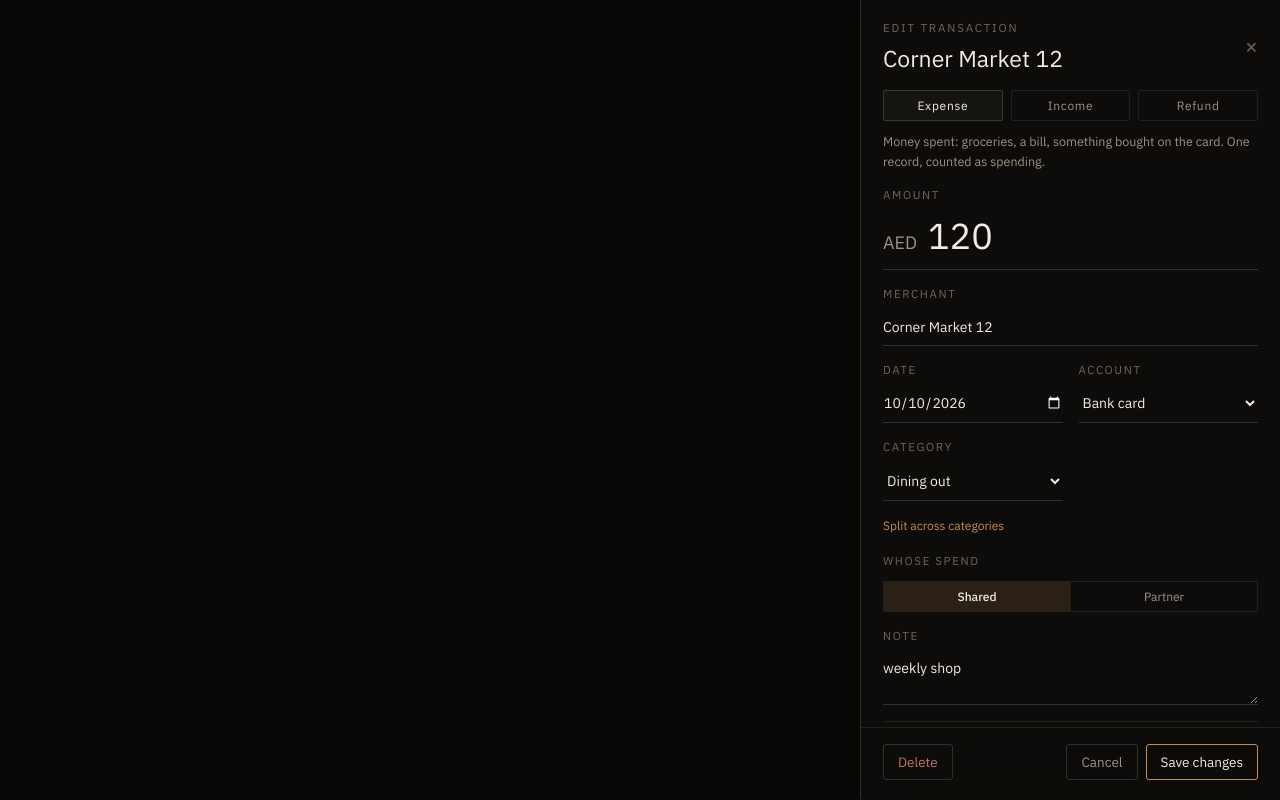
Scenario: Remember this merchant: on › follows the merchant field into the pattern until the pattern is edited
Select "Groceries" in the dropdown showing "Dining out" below "Category". click: (973, 482)
box: left=883, top=462, right=1062, bottom=501
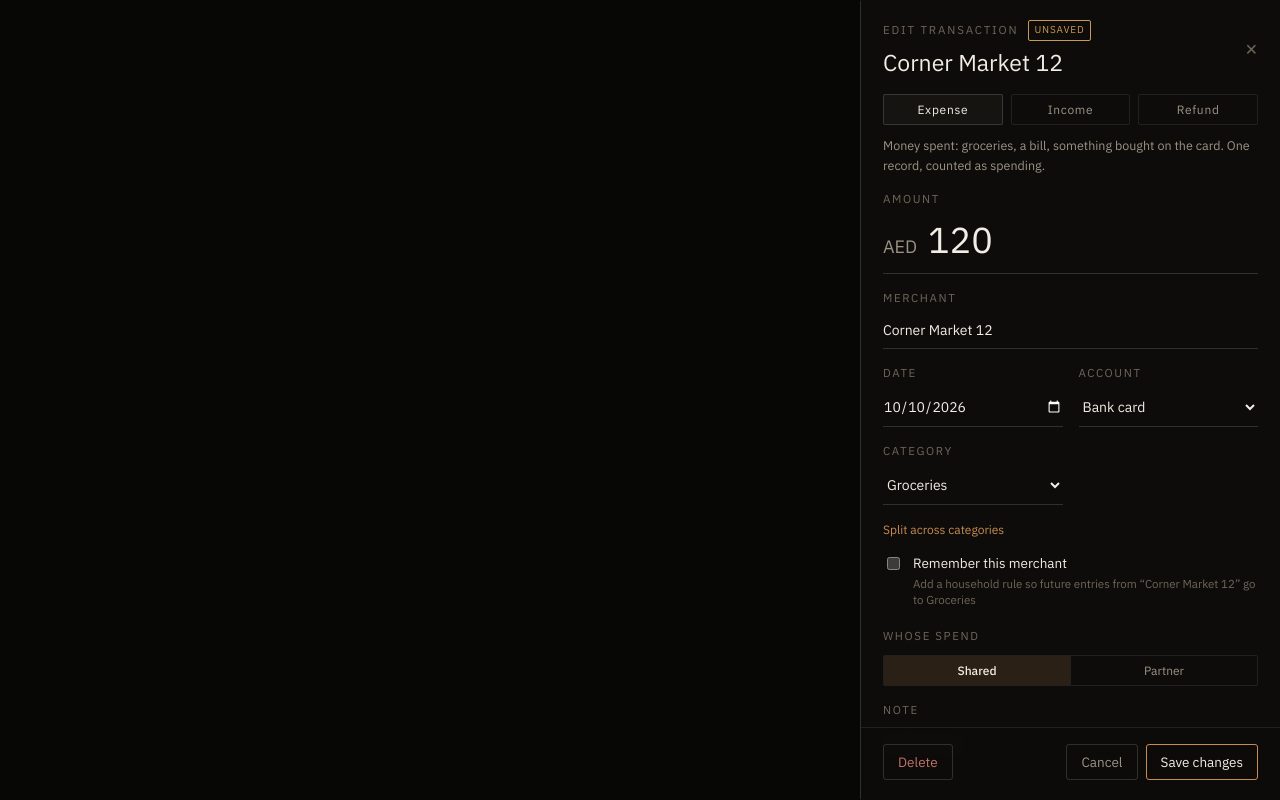
Click the checkbox labelled "Remember this merchant". click: click(894, 564)
box: left=887, top=557, right=900, bottom=570
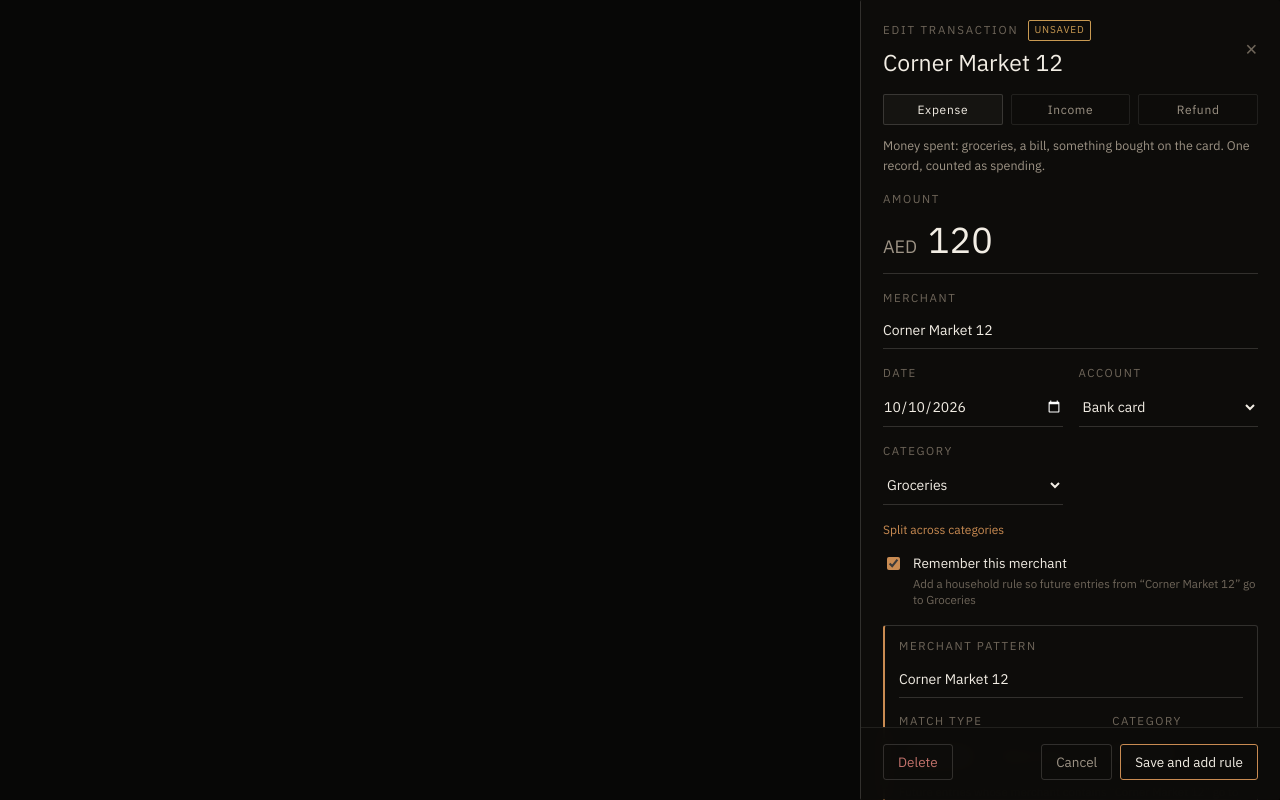
Replace the text in the field with placeholder "Type a merchant name" with "Corner Market Mall". click: (1070, 331)
box: left=883, top=312, right=1258, bottom=349
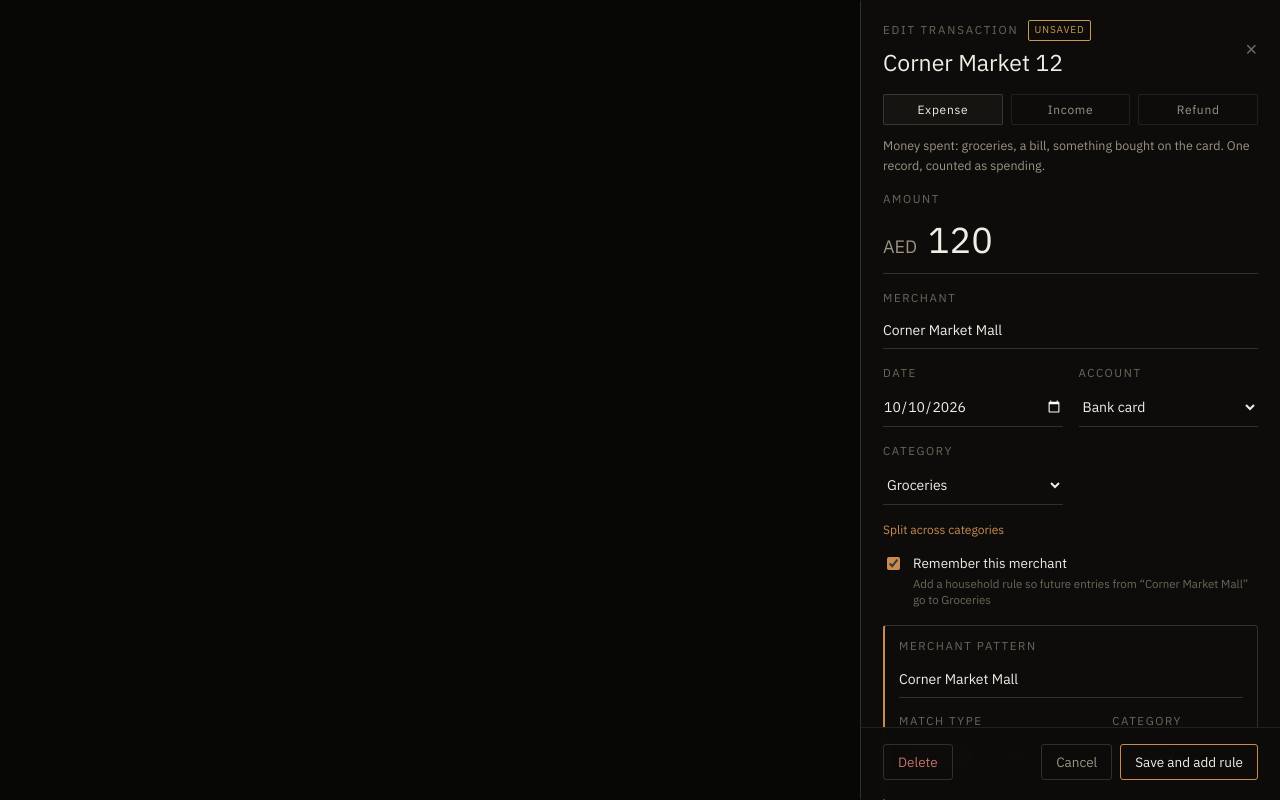
Expected: the field labelled "Merchant pattern" holds "Corner Market Mall", left=899, top=661, right=1243, bottom=698
